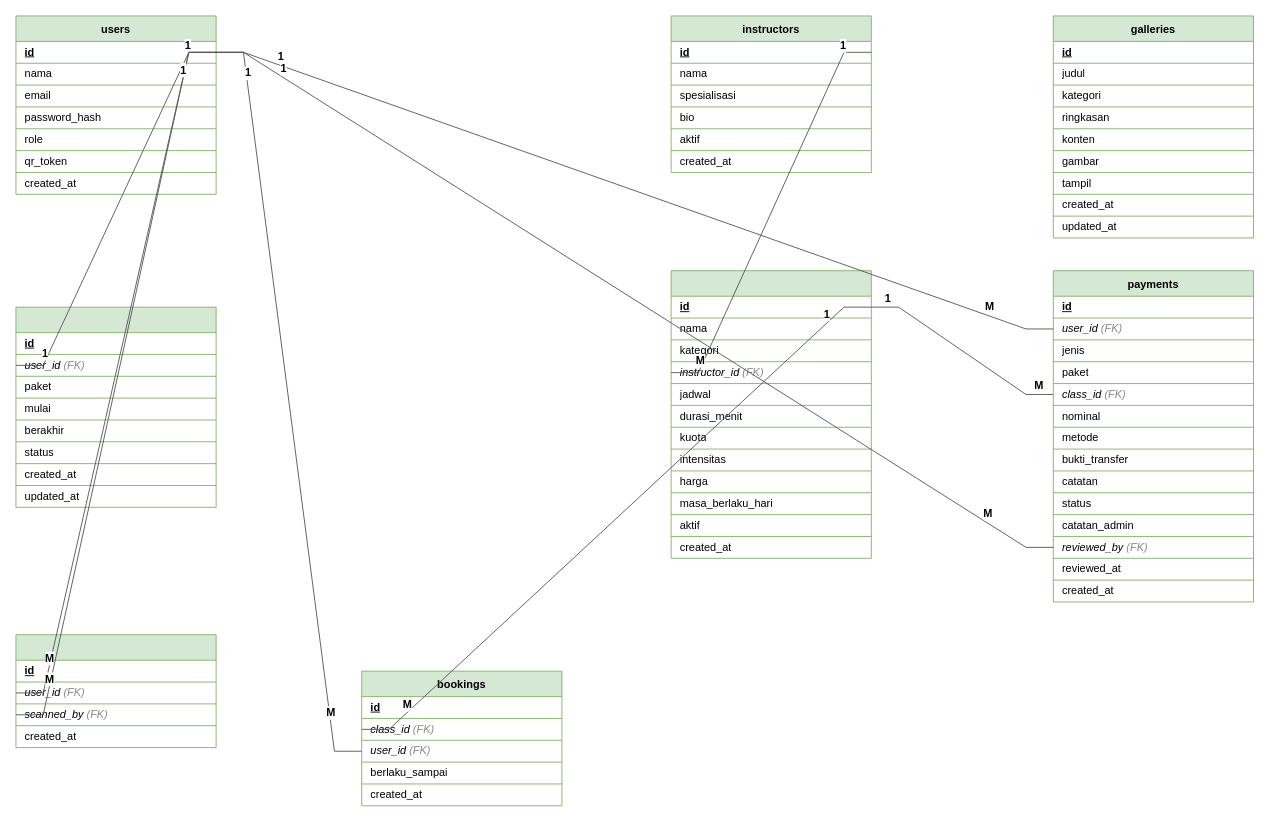
The diagram is 1269 pixels wide and 822 high, and some of its shapes have lost their labels. The box of each missing label's shape, as (x1, y1, x2, y2) in pixels:
attendances: (15, 634, 216, 748)
classes: (670, 270, 871, 558)
memberships: (15, 306, 216, 507)
